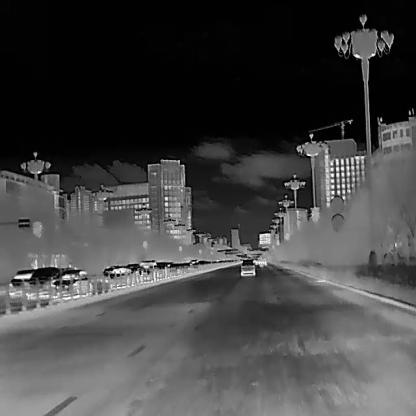car: (27, 266, 61, 296), (9, 268, 37, 298), (50, 269, 89, 290), (126, 262, 150, 278), (102, 265, 131, 278), (140, 259, 156, 278), (240, 258, 255, 276)
